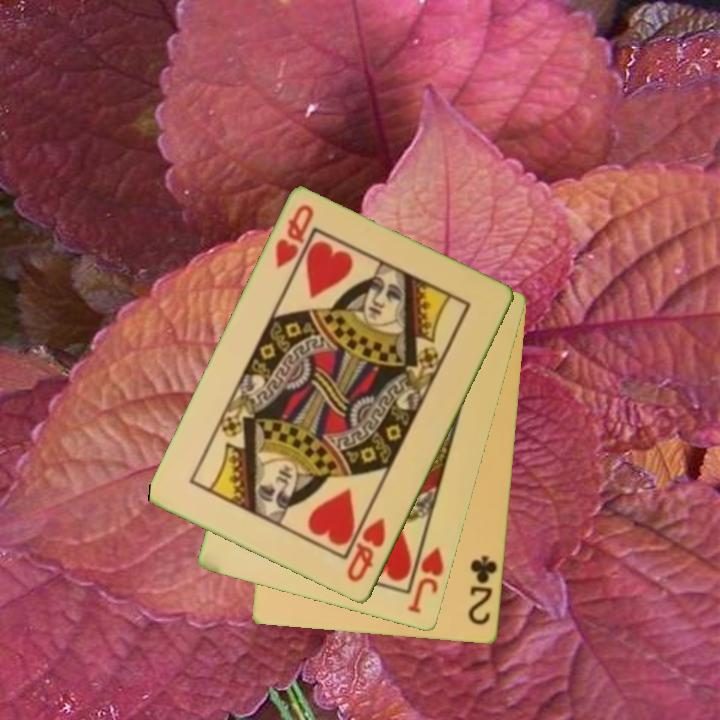2c: (465, 552, 501, 629)
Jh: (404, 533, 448, 617)
Qh: (343, 515, 389, 586), (272, 201, 317, 273)
